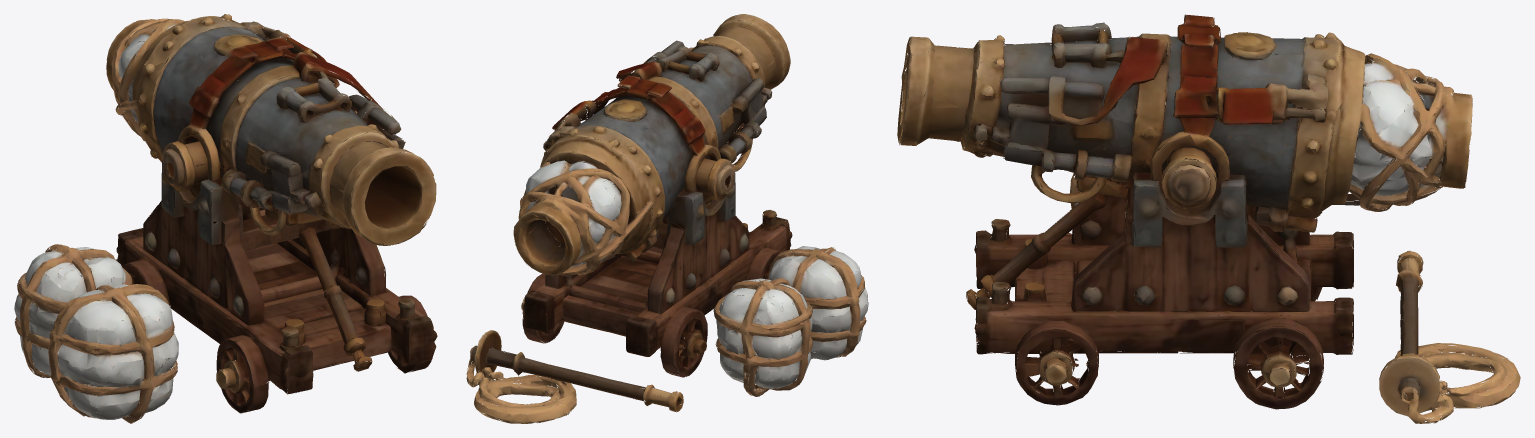
Rendered from cotton_bale_cannon.glb.
3 renders of one model, left to right at view 1: azimuth 30°, elevation 25°; view 2: azimuth 150°, elevation 25°; view 3: azimuth 270°, elevation 25°, orthographic. The views are drawn at different scales.
Visible parts, largest first — view 1: gun, head, base; view 2: gun, head, base; view 3: gun, head, base.
Part boxes in pixels (bbox=[...]): gun: bbox=[106, 14, 436, 245]; head: bbox=[116, 95, 437, 413]; base: bbox=[14, 244, 178, 423]; gun: bbox=[513, 14, 790, 275]; head: bbox=[487, 126, 792, 402]; base: bbox=[466, 246, 868, 423]; gun: bbox=[897, 14, 1472, 240]; head: bbox=[966, 97, 1418, 416]; base: bbox=[1070, 170, 1520, 423].
Bounding box in the file's own units: 1.53 × 1.3 × 2.14.
Materials: 1 (1 with a texture image).
